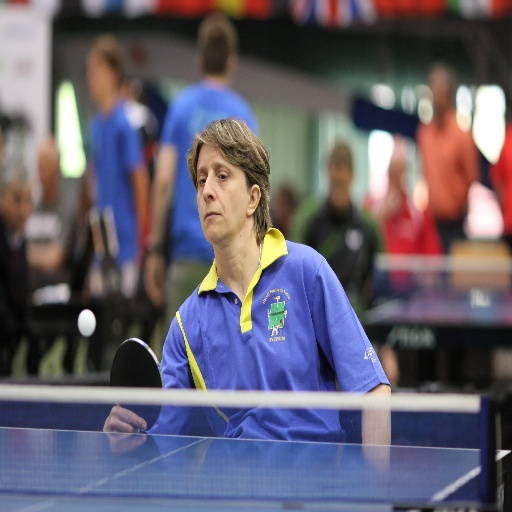hand: (95, 406, 147, 457), (142, 243, 166, 307)
